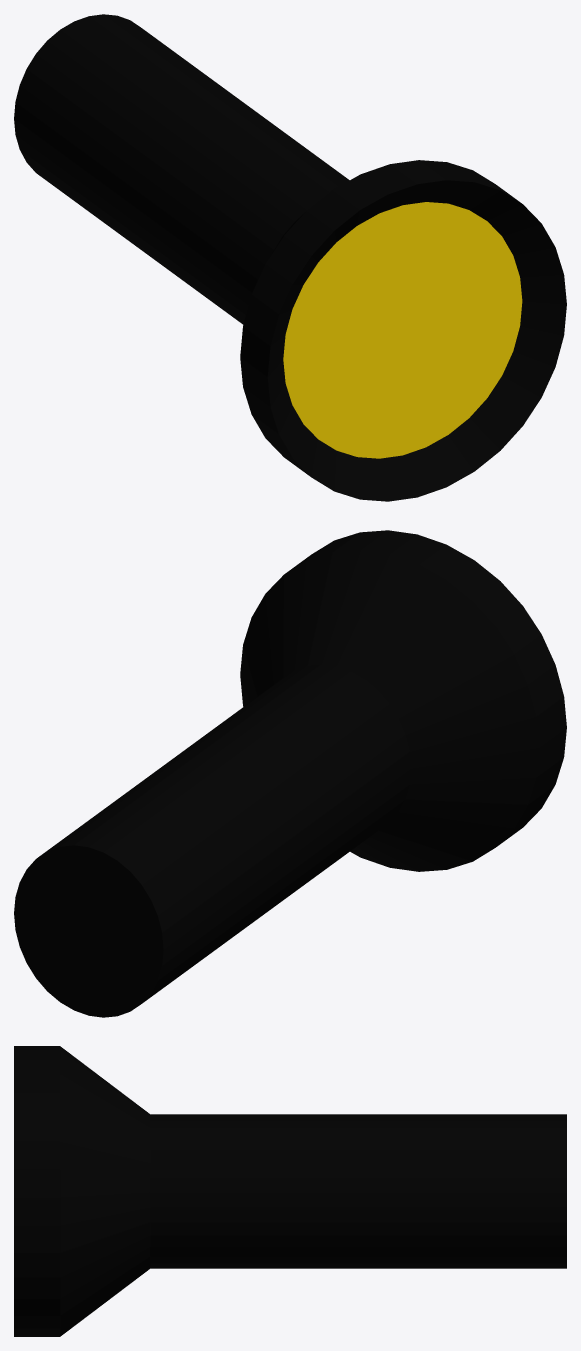
Rendered from latarka.fbx.
3 renders of one model, top to bottom at view 1: azimuth 30°, elevation 25°; view 2: azimuth 150°, elevation 25°; view 3: azimuth 270°, elevation 25°, orthographic. The views are drawn at different scales.
Parts seen in each view (by area): view 1: LATARKA; view 2: LATARKA; view 3: LATARKA.
Boxes of the visible parts, x1=… form: LATARKA: x1=14, y1=14, x2=566, y2=501; LATARKA: x1=14, y1=530, x2=566, y2=1017; LATARKA: x1=14, y1=1046, x2=566, y2=1336.
Size of the model in its own units: 200 by 200 by 380.
